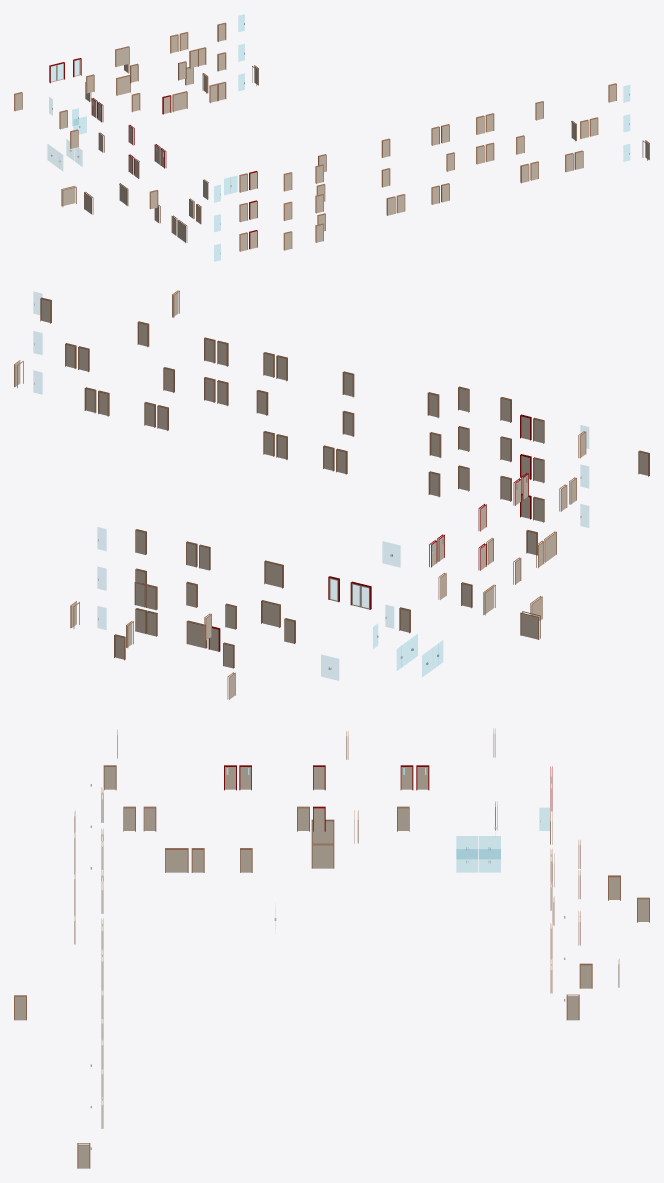
Rendered from model-part.gltf_doors_allFloors.gltf.
3 renders of one model, top to bottom at view 1: azimuth 30°, elevation 25°; view 2: azimuth 150°, elevation 25°; view 3: azimuth 270°, elevation 25°, orthographic. The views are drawn at different scales.
Size of the model in its own units: 65.79 by 9.81 by 52.85.
